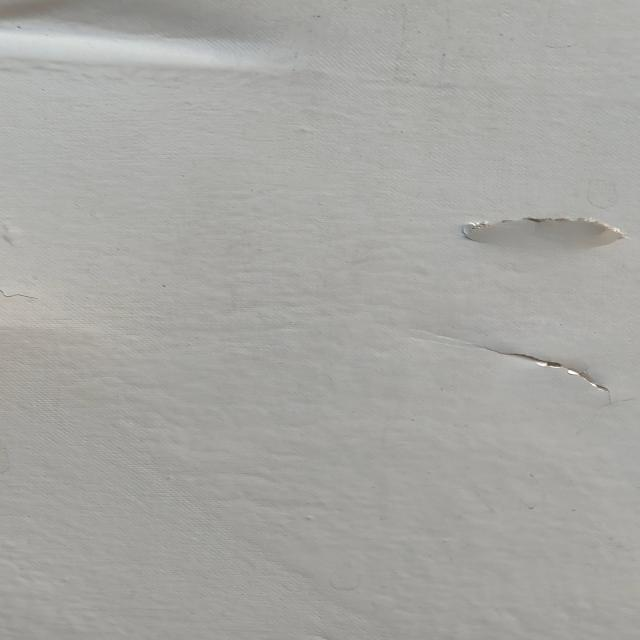Dents or Deformation: (1, 1, 354, 88)
Scratches: (441, 199, 640, 262), (462, 336, 630, 398)
